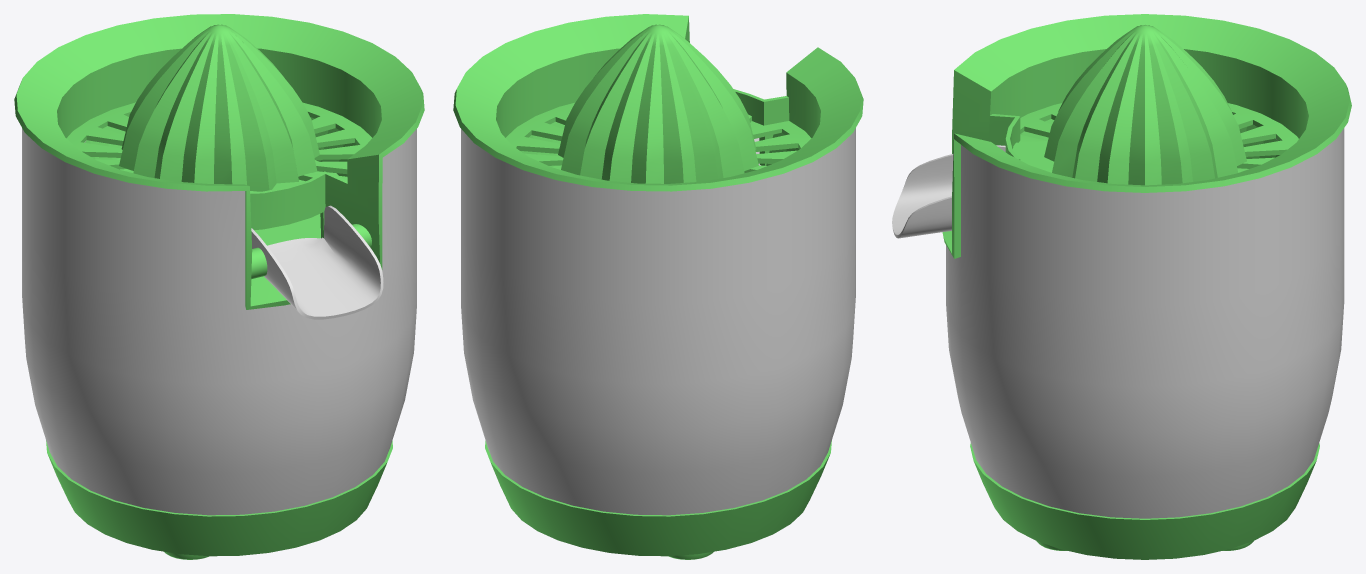
The model's file is OrangeJuicer.fbx.
3 views of the same model, side by side, from view 1: azimuth 30°, elevation 25°; view 2: azimuth 150°, elevation 25°; view 3: azimuth 270°, elevation 25° (orthographic).
Parts seen in each view (by area): view 1: Cylinder, Cylinder.001, Cylinder.002, Cube, Cylinder.004; view 2: Cylinder, Cylinder.001, Cylinder.002; view 3: Cylinder, Cylinder.001, Cylinder.002, Cube.
Boxes of the visible parts, x1,y1,x2,y2 form: Cylinder: (22,128,416,556); Cylinder.001: (14,14,424,309); Cylinder.002: (119,24,319,191); Cube: (251,205,383,319); Cylinder.004: (251,224,371,279); Cylinder: (461,128,855,556); Cylinder.001: (453,14,863,191); Cylinder.002: (558,24,758,183); Cylinder: (946,125,1344,559); Cylinder.001: (942,14,1351,258); Cylinder.002: (1012,25,1246,185); Cube: (892,145,1005,238).
Size of the model in its own units: 227 by 290 by 252.
